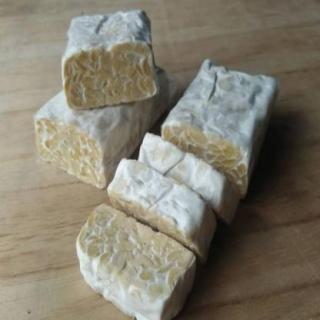Tempe: (74, 201, 200, 320), (60, 10, 163, 113)
